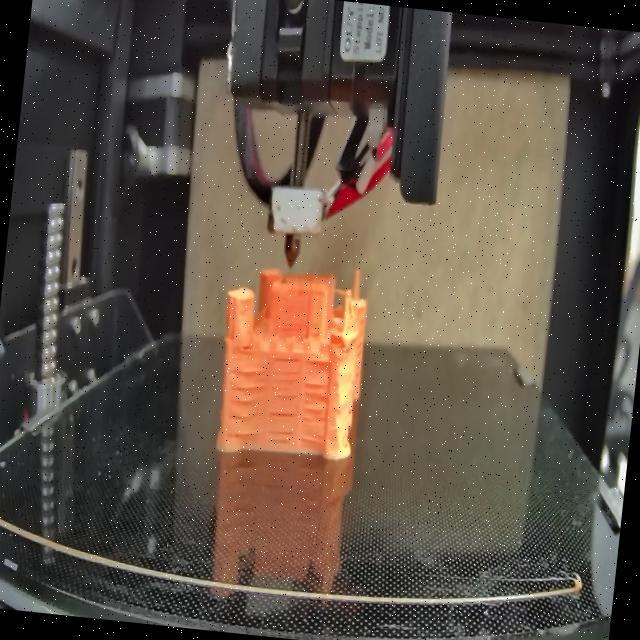cracks: (227, 364, 266, 438), (298, 382, 332, 452), (270, 349, 304, 403), (267, 408, 296, 449), (304, 351, 334, 372), (238, 339, 255, 354)
